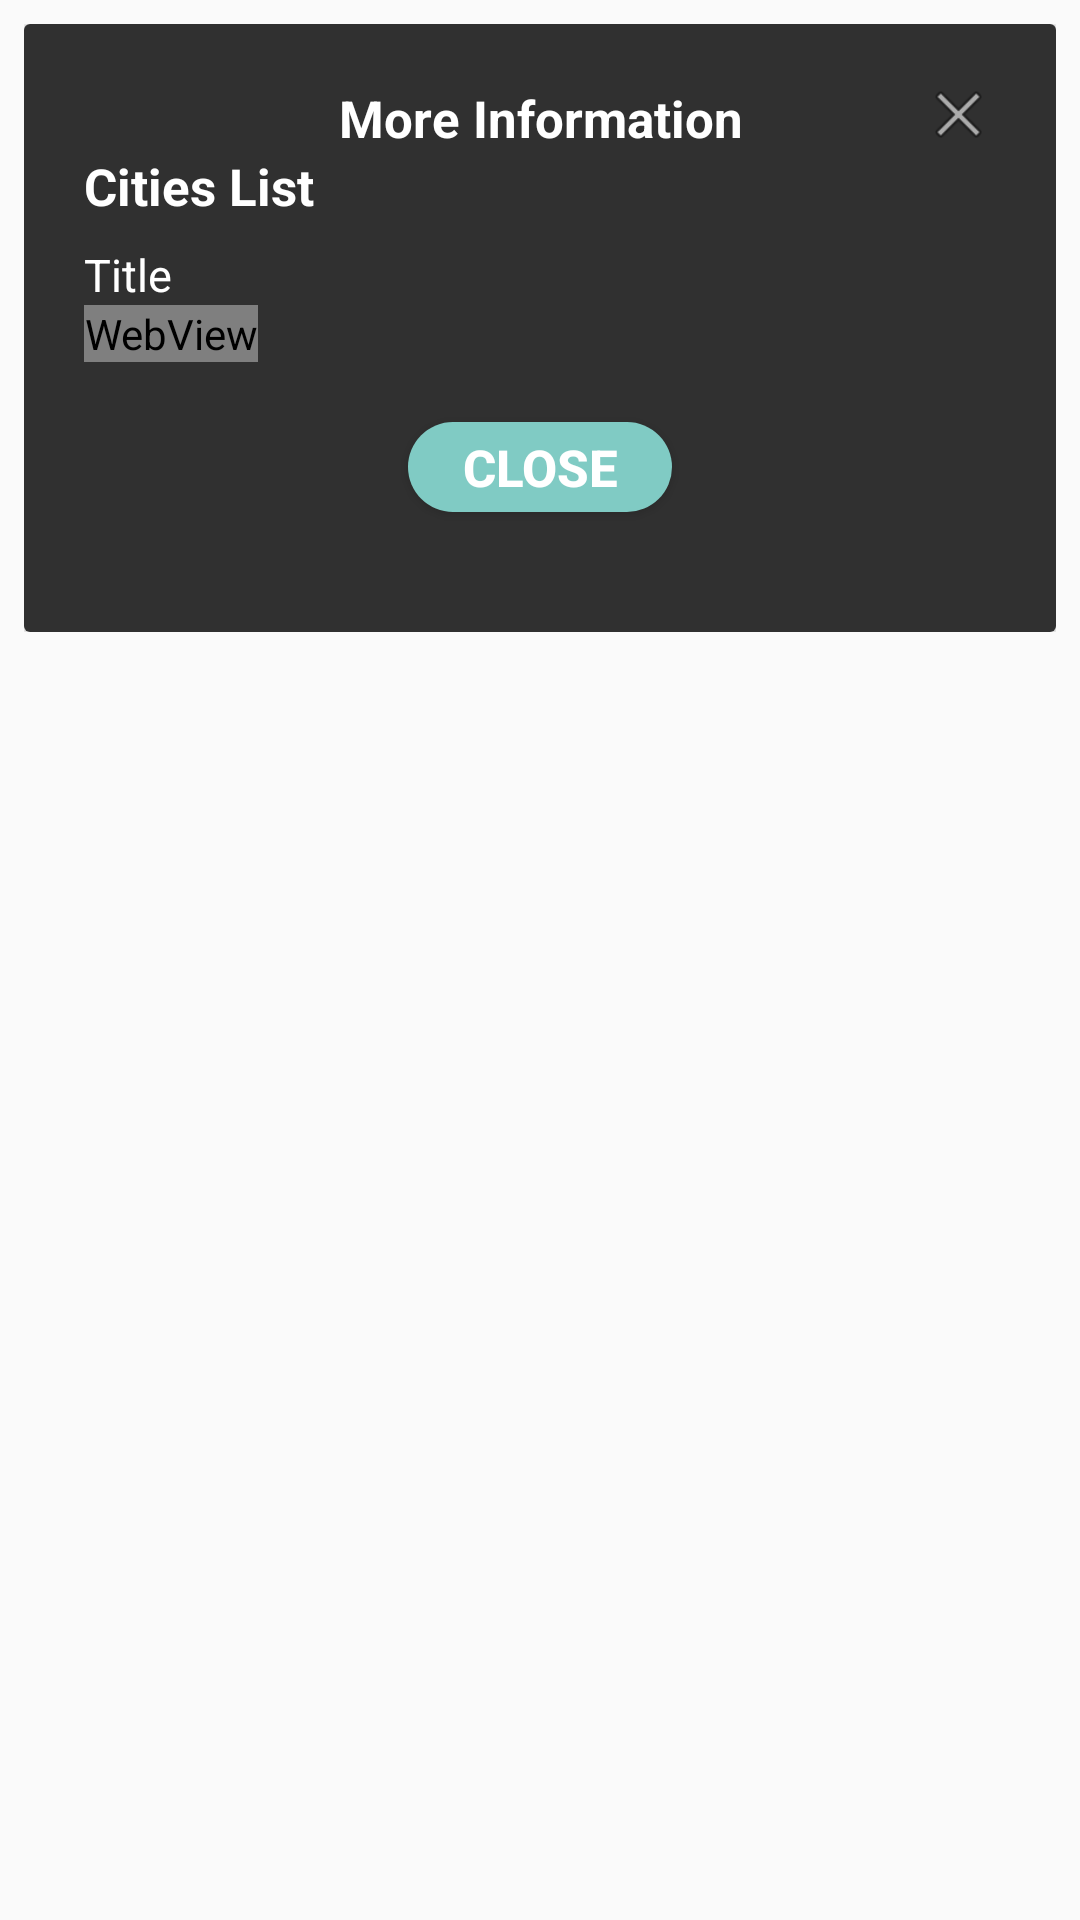

Point at icon controls on the screen. Image size 1080px×1920px, points as (x=x, y=y).
close clear cancel: (x=958, y=114)
